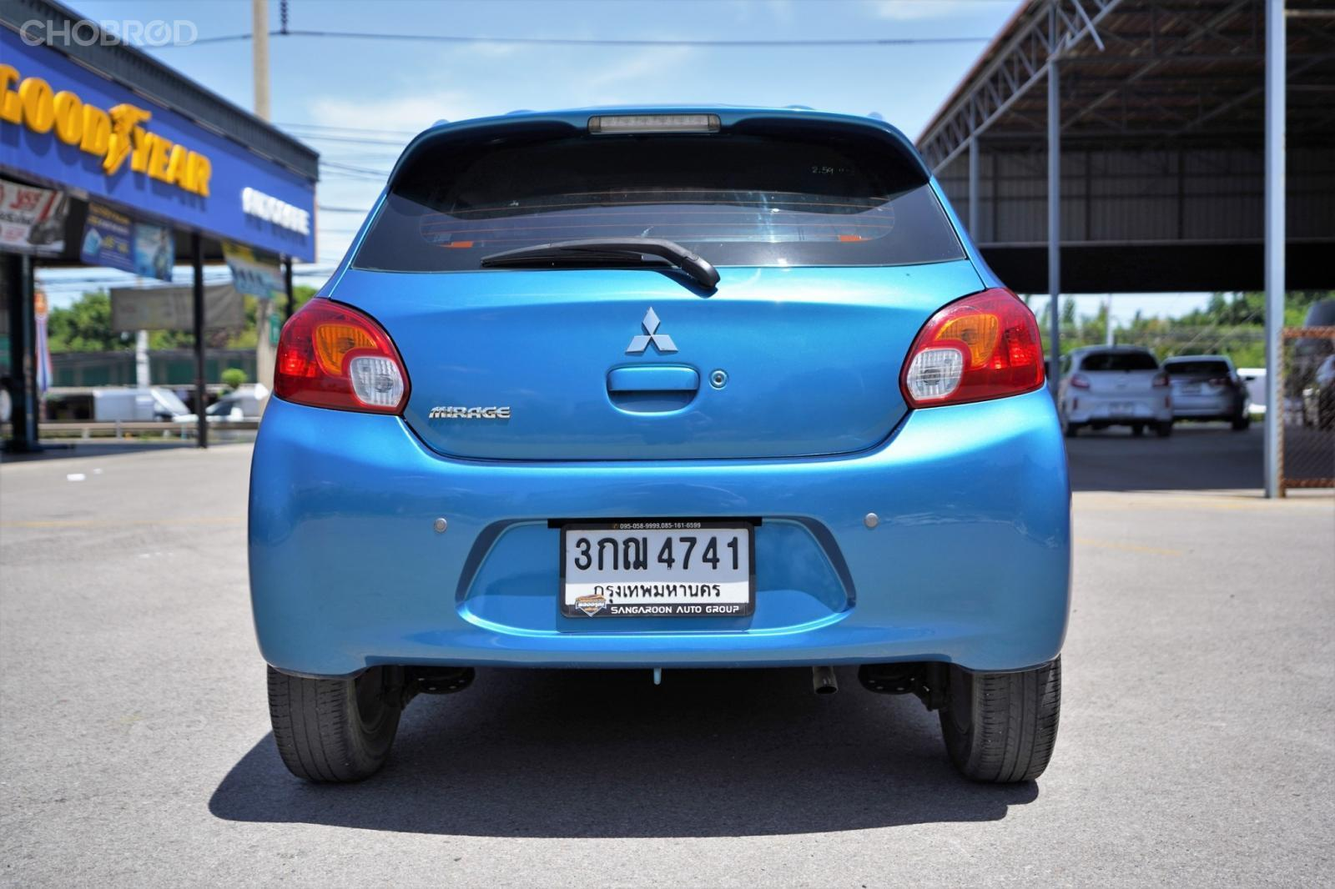license-plate: (557, 518, 753, 624)
